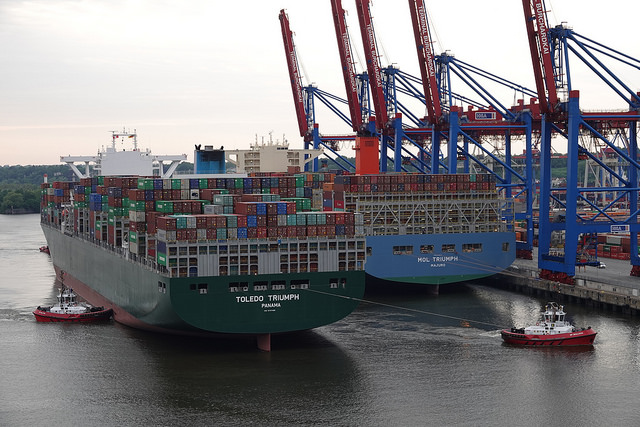container_ship: (38, 133, 363, 351)
tug_boat: (501, 301, 598, 349), (34, 279, 111, 327)
